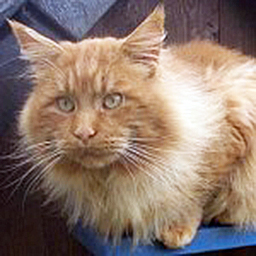cat: (7, 8, 244, 229)
